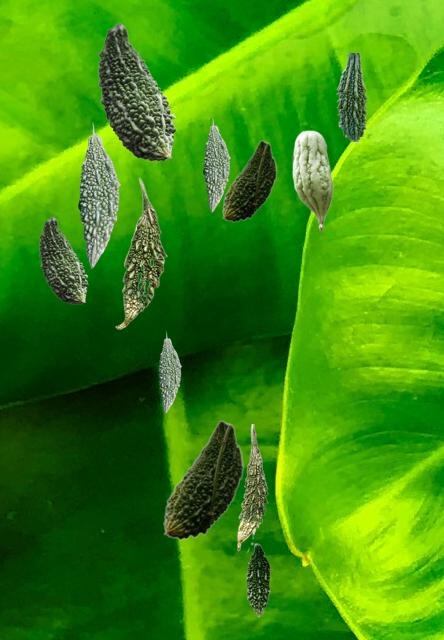ampalaya: (98, 22, 175, 160), (163, 420, 243, 539), (115, 177, 166, 328), (78, 122, 119, 267), (222, 140, 276, 221), (39, 216, 87, 303), (292, 130, 332, 230), (237, 424, 267, 550), (336, 53, 366, 140), (203, 117, 229, 211), (246, 542, 271, 616), (158, 331, 180, 412)
